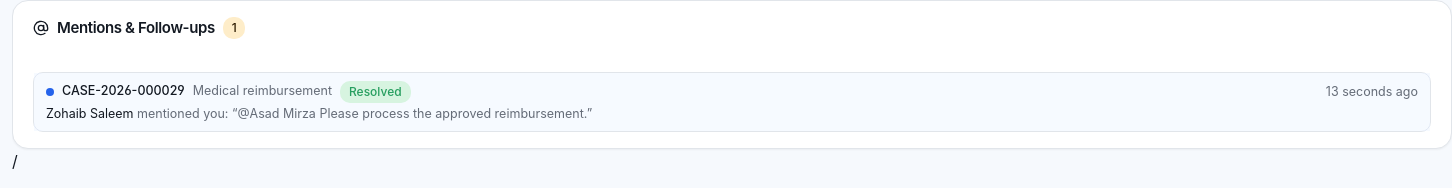
Scenario: Mentions & Follow-ups › lists who tagged me, where, and what they said - and opens the exact case, marking it read
The image size is (1452, 188).
Expected: the text "Medical reimbursement" is shown, [193, 82, 332, 101]
Expected: the text "Zohaib Saleem" is shown, [46, 106, 134, 120]
Click the link "CASE-2026-000029": [123, 91] box [34, 72, 1430, 131]
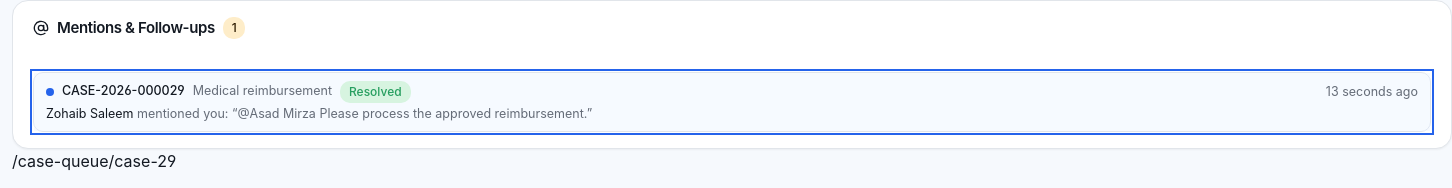
Expected: the text with test id "where" reads "/case-queue/case-29", [12, 151, 176, 171]
